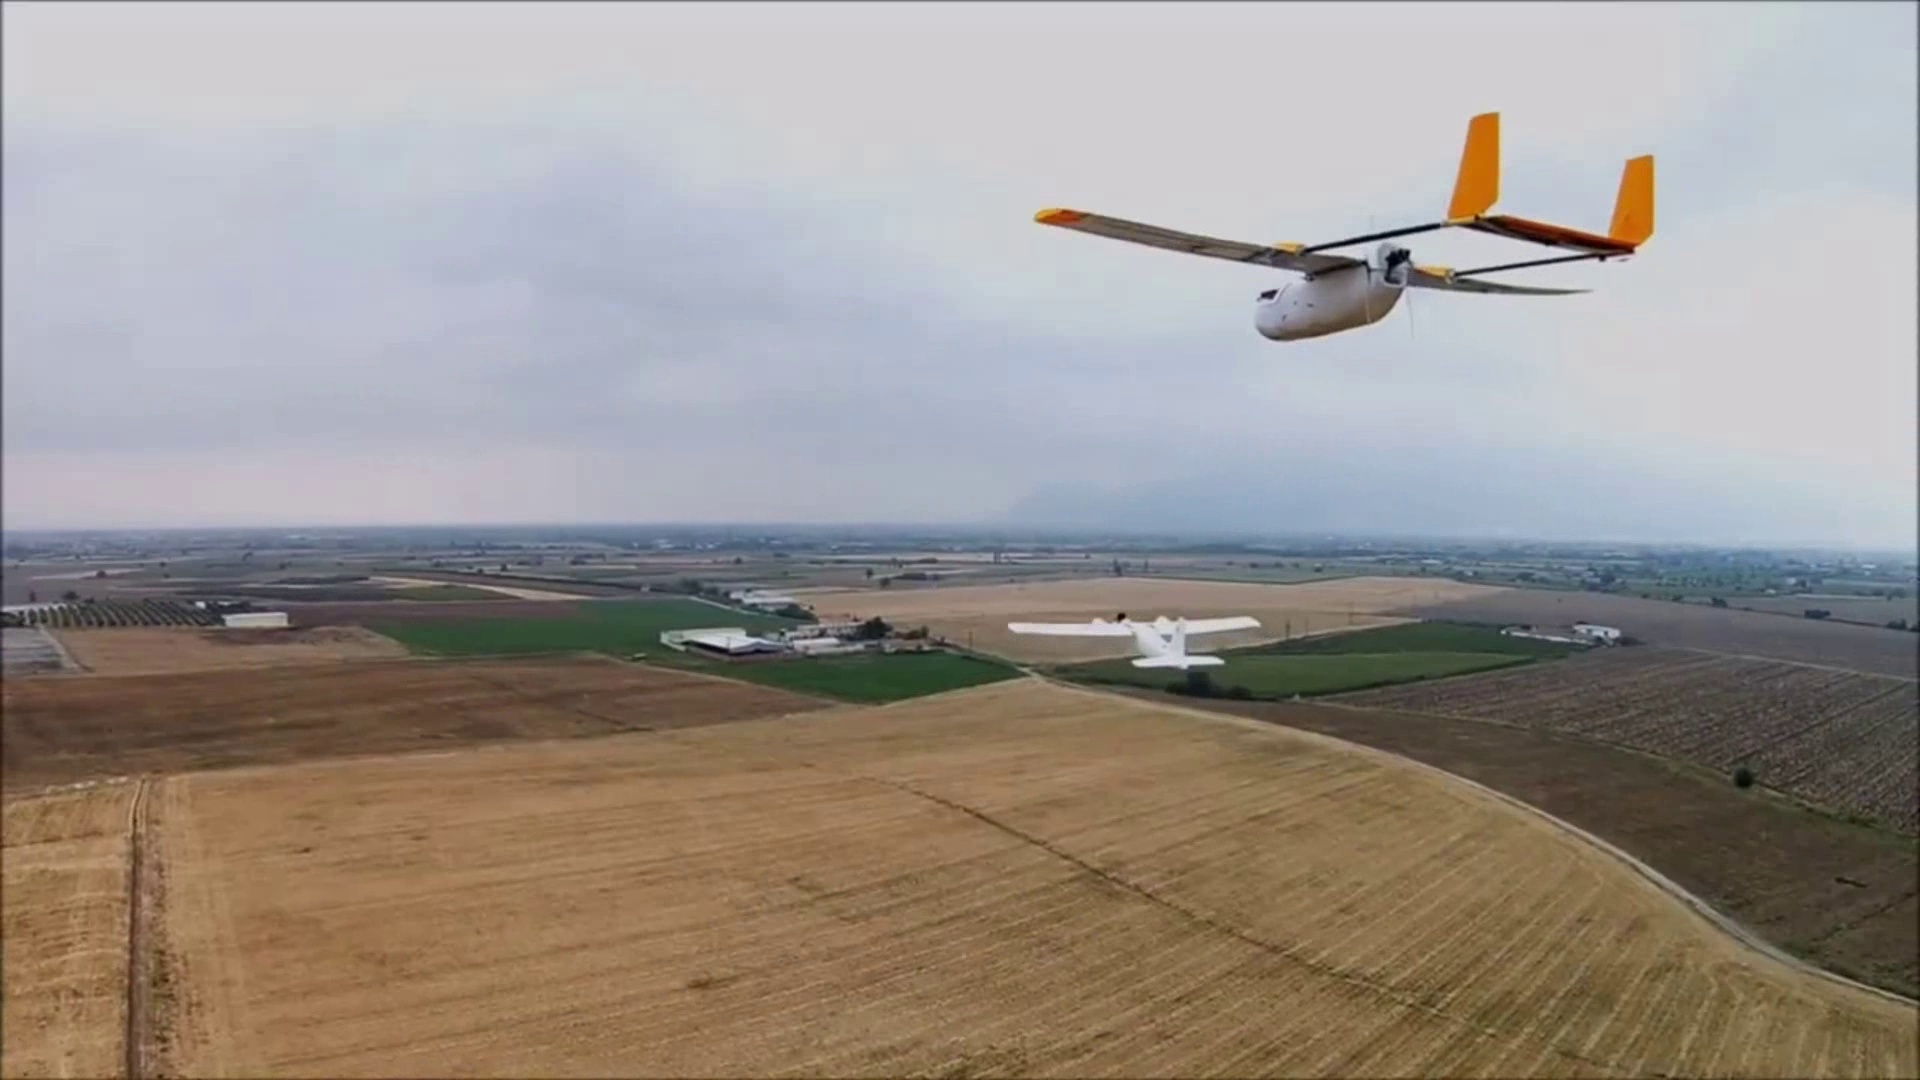airplane: (1031, 116, 1654, 338)
